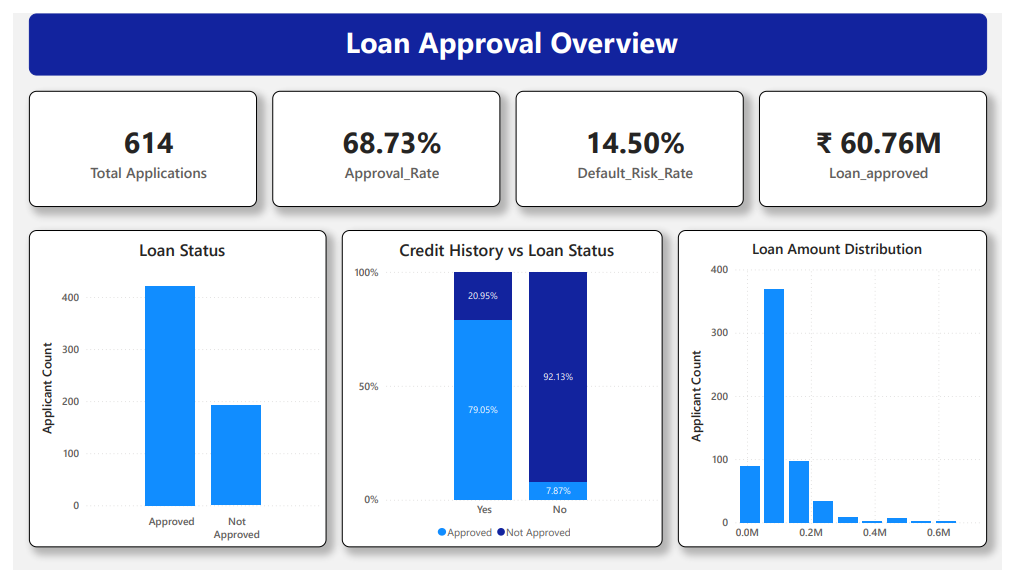

This screenshot's page, from the dashboard's own definition file:
{"tool":"powerbi","page":{"name":"Loan Approval Overview","canvas":[1280,720],"ordinal":0},"visuals":[{"type":"textbox","box":[20,0,1240,80],"z":0},{"type":"card","fields":{"Values":["Count(loan_dataset.Loan_ID)"]},"box":[20,100,295,150],"z":1},{"type":"card","fields":{"Values":["loan_dataset.Approval_Rate"]},"box":[335,100,295,150],"z":2},{"type":"card","fields":{"Values":["loan_dataset.Default_Risk_Rate"]},"box":[650,100,295,150],"z":3},{"type":"card","fields":{"Values":["loan_dataset.Loan_approved"]},"box":[965,100,295,150],"z":4},{"type":"columnChart","title":"Loan Status","fields":{"Category":["loan_dataset.Loan_Status"],"Y":["CountNonNull(loan_dataset.Loan_ID)"]},"box":[20,280,385,410],"z":5},{"type":"hundredPercentStackedColumnChart","title":"Credit History vs Loan Status","fields":{"Y":["CountNonNull(loan_dataset.Loan_ID)"],"Category":["loan_dataset.Credit_History"],"Series":["loan_dataset.Loan_Status"]},"box":[425,280,415,410],"z":6},{"type":"clusteredColumnChart","title":"Loan Amount Distribution","fields":{"Y":["CountNonNull(loan_dataset.Loan_ID)"],"Category":["loan_dataset.LoanAmount (bins)"]},"box":[860,280,400,410],"z":7}]}

Visuals, with their boxes in screenshot pixels (x1, y1, x2, y2), scaled from the page's 1280x720 canvas onto the 1018x588 screenshot:
textbox: (x1=16, y1=0, x2=1002, y2=65)
card - Count(loan_dataset.Loan_ID): (x1=16, y1=82, x2=251, y2=204)
card - loan_dataset.Approval_Rate: (x1=266, y1=82, x2=501, y2=204)
card - loan_dataset.Default_Risk_Rate: (x1=517, y1=82, x2=752, y2=204)
card - loan_dataset.Loan_approved: (x1=767, y1=82, x2=1002, y2=204)
"Loan Status" columnChart: (x1=16, y1=229, x2=322, y2=564)
"Credit History vs Loan Status" hundredPercentStackedColumnChart: (x1=338, y1=229, x2=668, y2=564)
"Loan Amount Distribution" clusteredColumnChart: (x1=684, y1=229, x2=1002, y2=564)
